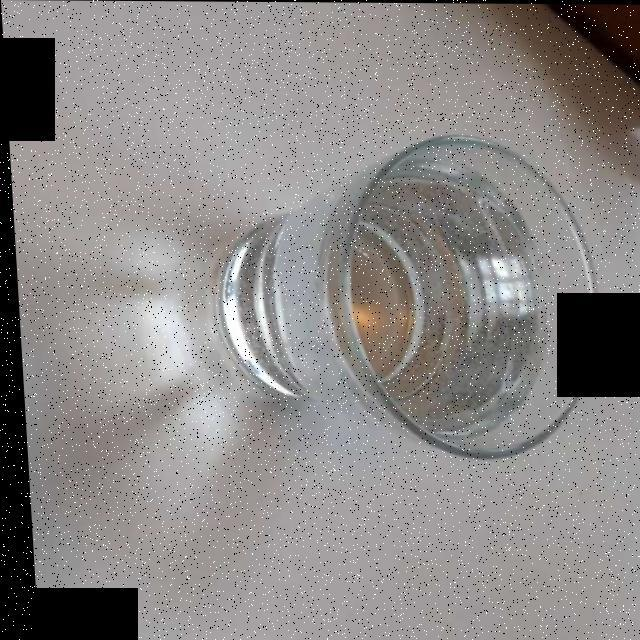water: (278, 167, 532, 428)
